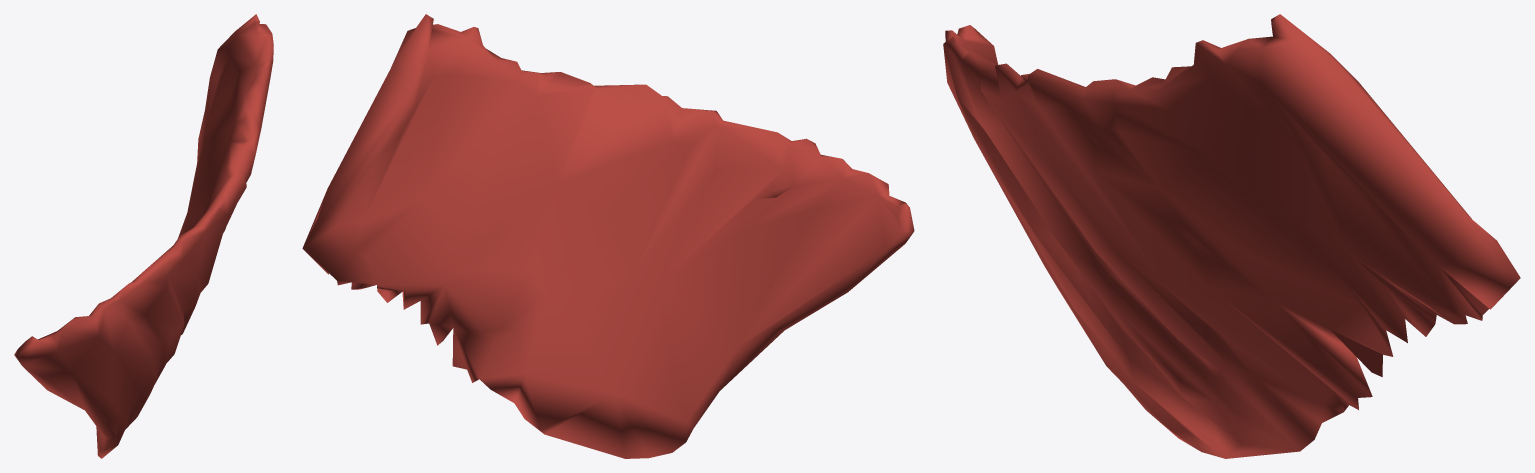
The model's file is musculos-depressor-labii-inferioris-l.glb.
The picture shows the model from 3 angles, left to right: view 1: azimuth 30°, elevation 25°; view 2: azimuth 150°, elevation 25°; view 3: azimuth 270°, elevation 25°; orthographic projection. The views are drawn at different scales.
Visible parts, largest first — view 1: Depressor labii inferioris.l; view 2: Depressor labii inferioris.l; view 3: Depressor labii inferioris.l.
Boxes of the visible parts, x1,y1,x2,y2 form: Depressor labii inferioris.l: [14, 14, 273, 458]; Depressor labii inferioris.l: [302, 14, 914, 458]; Depressor labii inferioris.l: [943, 14, 1520, 458].
Size of the model in its own units: 0.0306 by 0.0295 by 0.0273.
